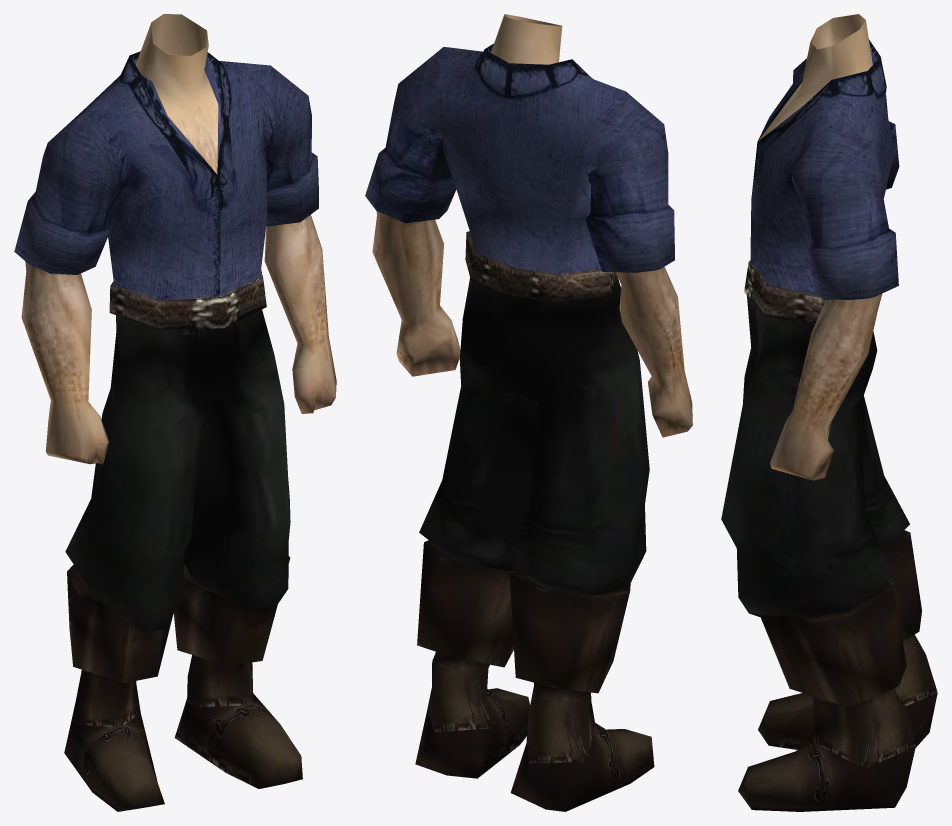
The model's file is KOSZULA_NAVY.glb.
3 views of the same model, side by side, from view 1: azimuth 30°, elevation 25°; view 2: azimuth 150°, elevation 25°; view 3: azimuth 270°, elevation 25° (orthographic).
Visible parts, largest first — view 1: KOSZULA_NAVY; view 2: KOSZULA_NAVY; view 3: KOSZULA_NAVY.
Part boxes in pixels (bbox=[...]): KOSZULA_NAVY: bbox=[14, 14, 336, 811]; KOSZULA_NAVY: bbox=[365, 14, 692, 811]; KOSZULA_NAVY: bbox=[721, 14, 937, 811].
Bounding box in the file's own units: 0.6885 × 1.68 × 0.4402.
Materials: 2 (2 with a texture image).
